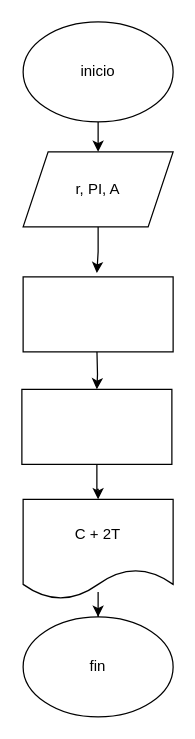
This 195x739 diagram has some shape labels left out. The shapes that lost their labels are listed below. From the top down, each one's box as (x1, y1, x2, y2) in pixels, then its label:
(22, 276, 173, 352): C = PI*r²/2
(21, 388, 172, 464): 2T = r*A
